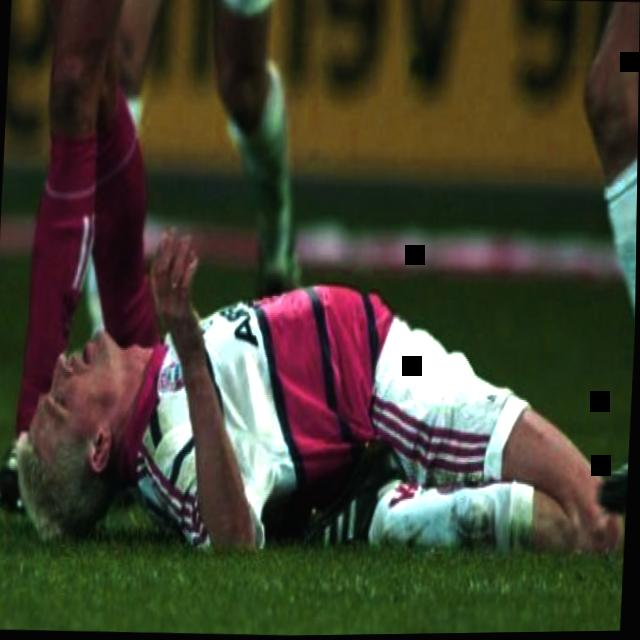Fall-Detected: (0, 133, 638, 583)
